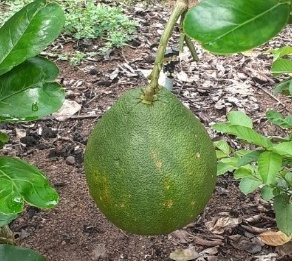Buoi: (81, 82, 220, 237)
